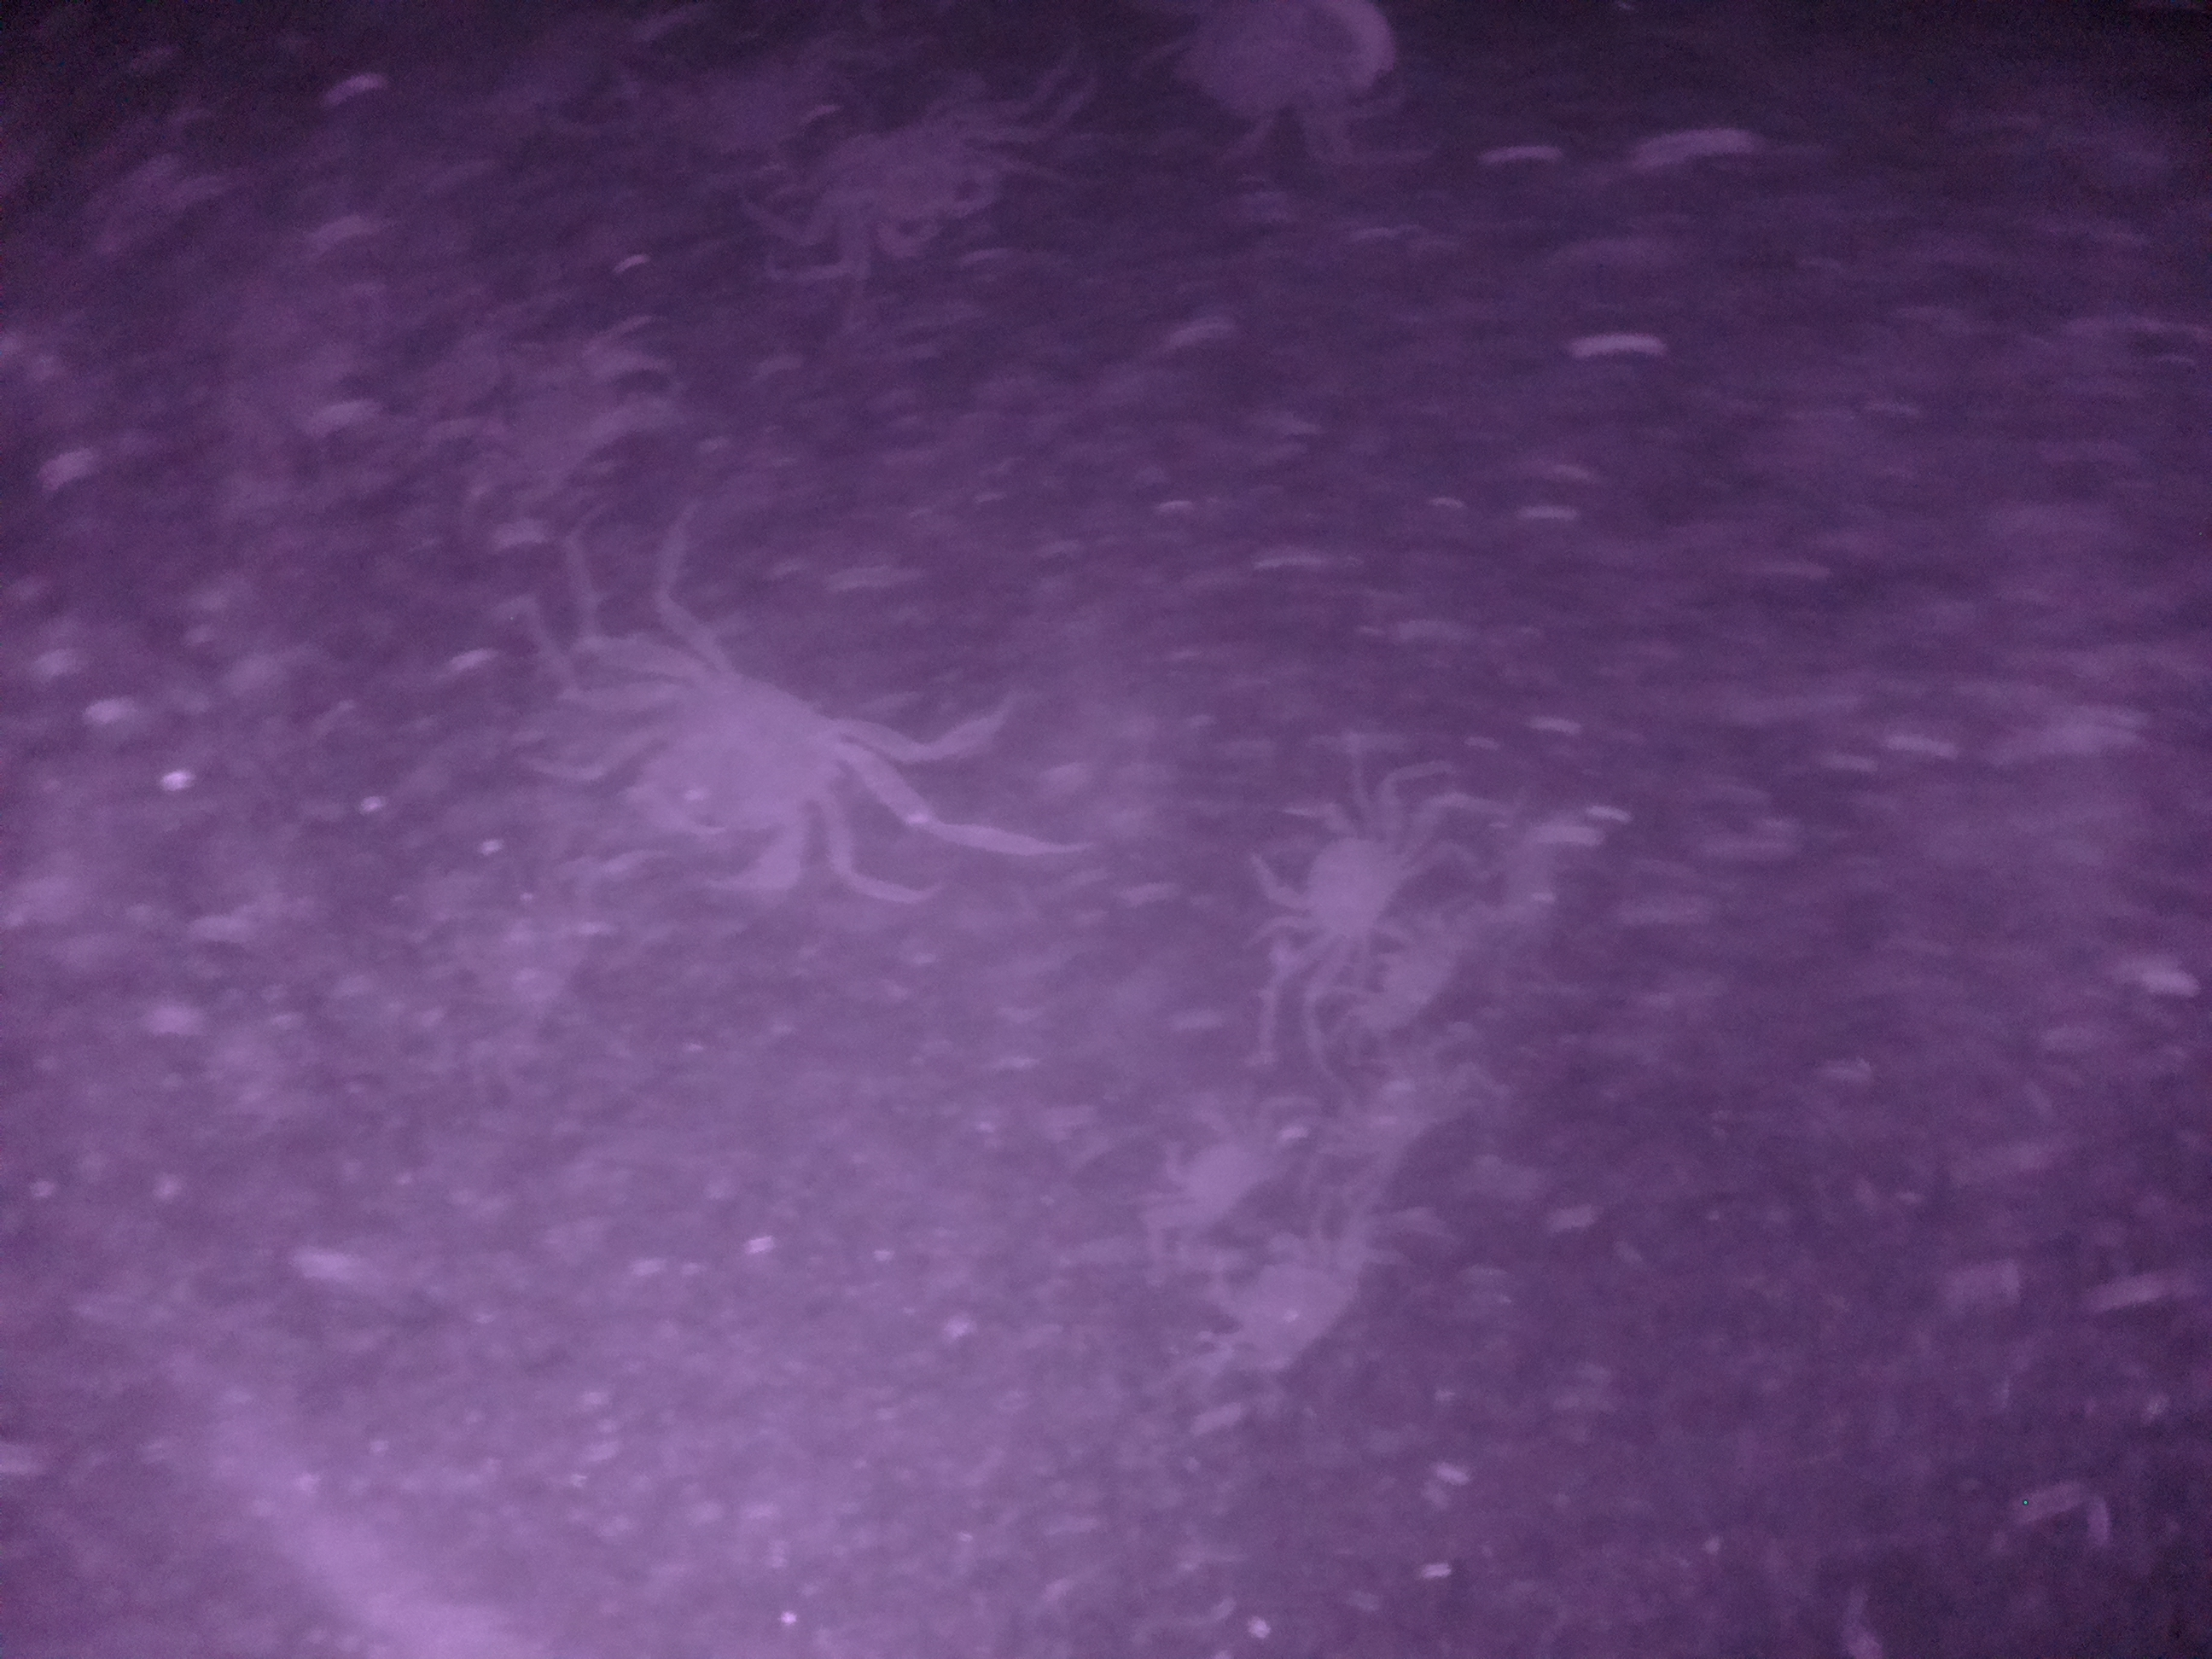Crab: (571, 645, 916, 911), (1233, 772, 1428, 978), (1209, 1211, 1366, 1378)
